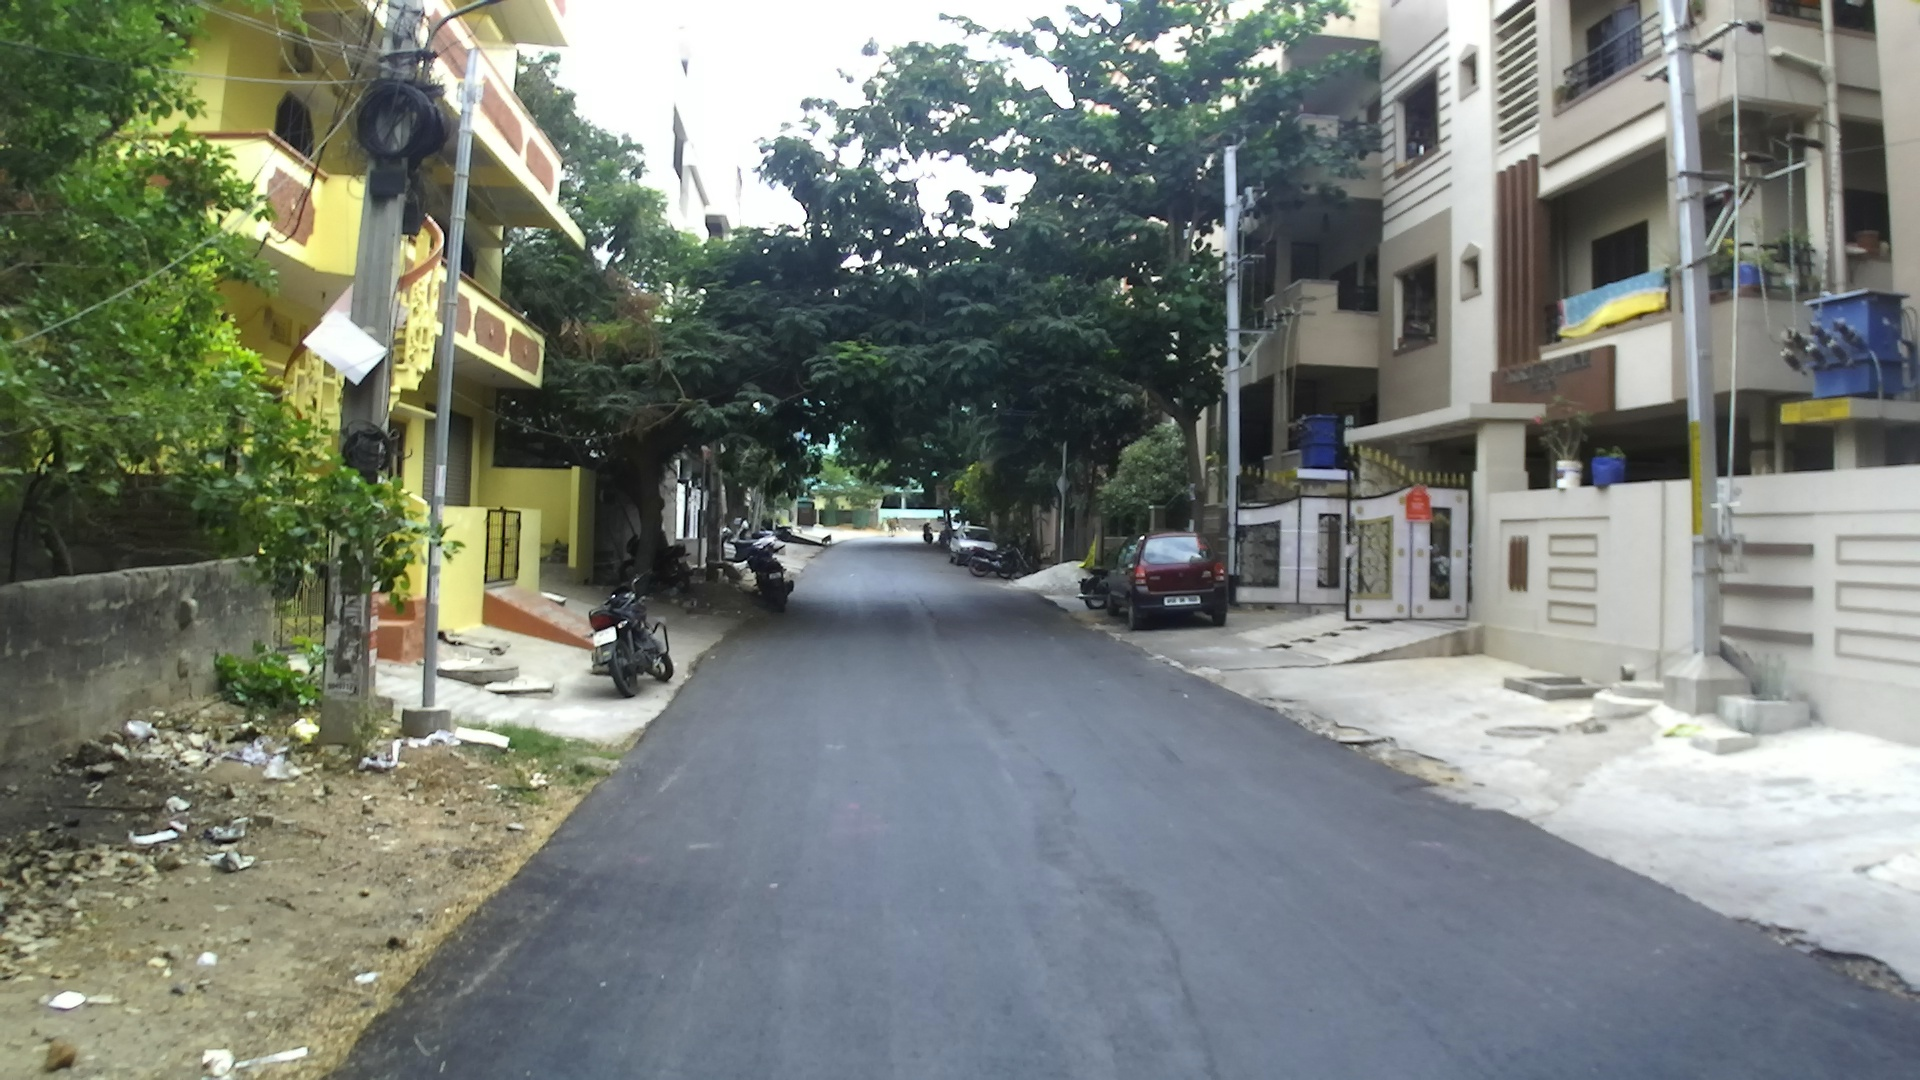vehicle: (1121, 531, 1233, 626), (587, 585, 673, 696), (947, 522, 1004, 567), (952, 531, 1004, 574)
